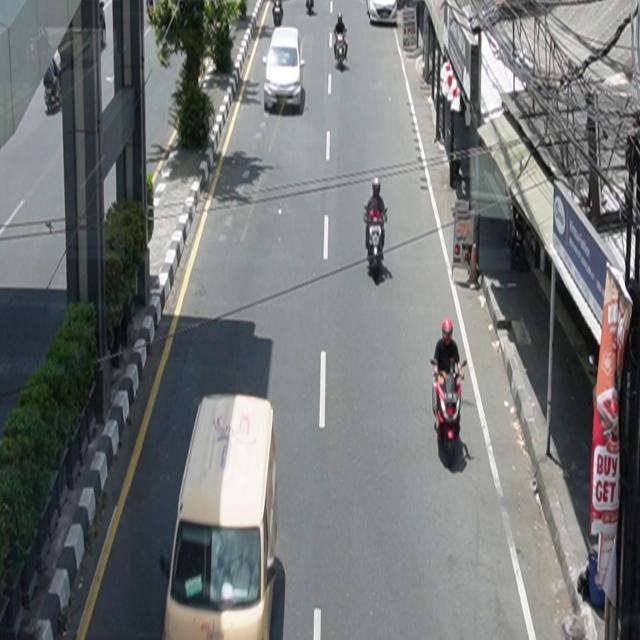bus: (163, 393, 279, 640)
car: (263, 27, 306, 114), (366, 1, 398, 26)
